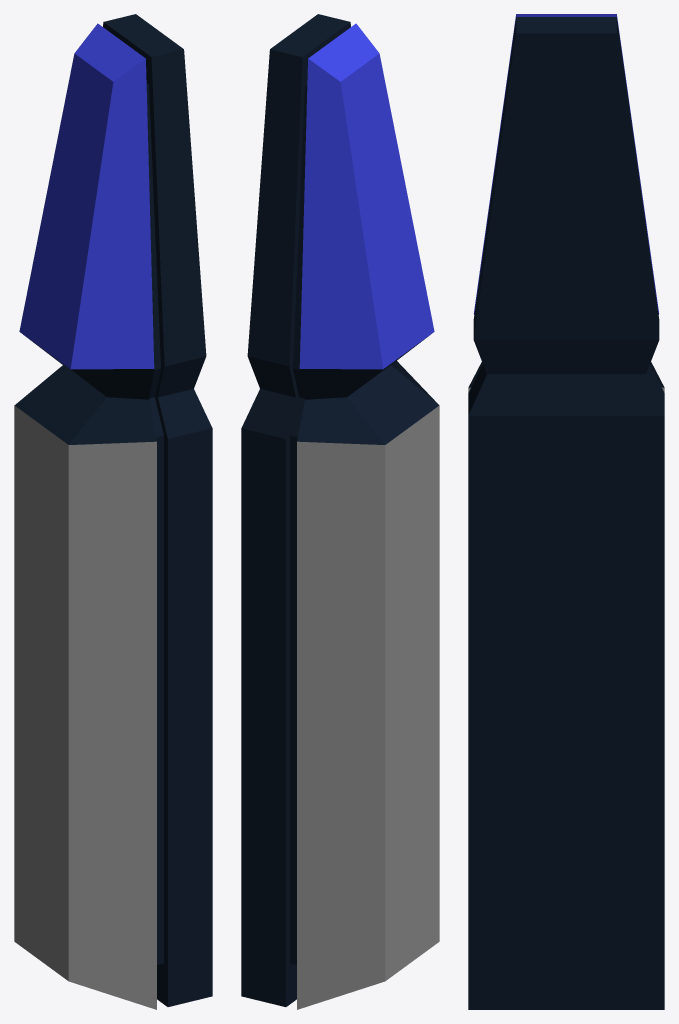
The model's file is ArmorLvl1.glb.
3 views of the same model, side by side, from view 1: azimuth 30°, elevation 25°; view 2: azimuth 150°, elevation 25°; view 3: azimuth 270°, elevation 25° (orthographic). The views are drawn at different scales.
Visible parts, largest first — view 1: LegArmor; view 2: LegArmor; view 3: LegArmor.
Boxes of the visible parts, x1,y1,x2,y2 form: LegArmor: (14, 14, 212, 1009); LegArmor: (241, 14, 439, 1009); LegArmor: (468, 14, 664, 1009).
Size of the model in its own units: 0.4045 by 2.91 by 0.5312.
